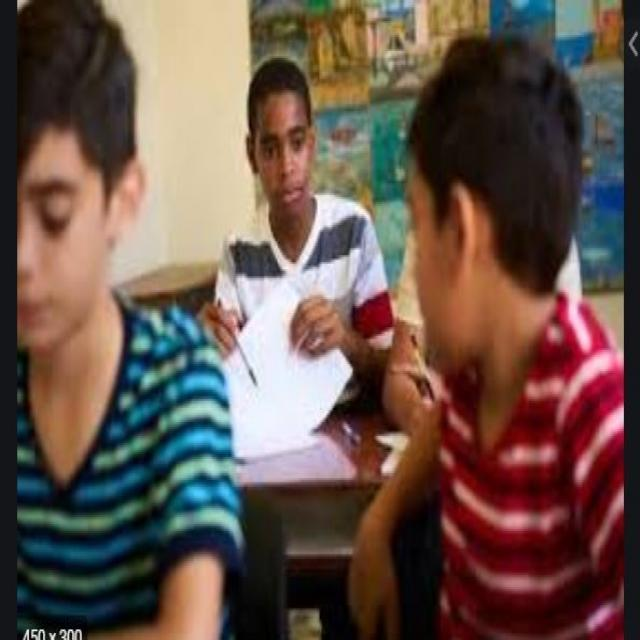cheating: (195, 15, 640, 640)
